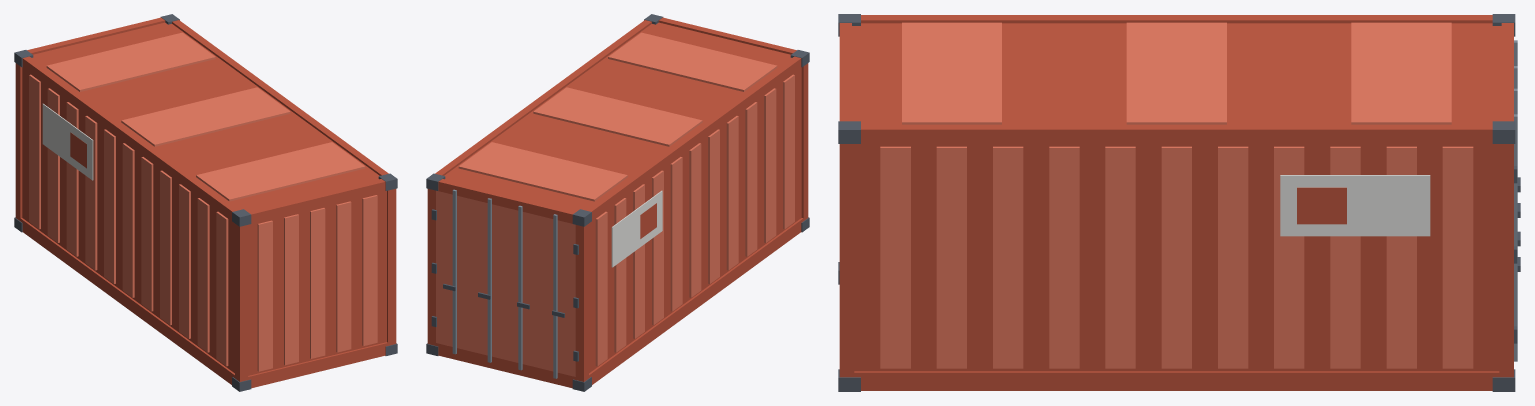
File: container_a.glb
3 renders of one model, left to right at view 1: azimuth 30°, elevation 25°; view 2: azimuth 150°, elevation 25°; view 3: azimuth 270°, elevation 25°, orthographic. The views are drawn at different scales.
Visible parts, largest first — view 1: Container; view 2: Container; view 3: Container.
Boxes of the visible parts, x1,y1,x2,y2 form: Container: (14, 14, 397, 391); Container: (426, 14, 809, 391); Container: (838, 14, 1520, 391).
Bounding box in the file's own units: 2.47 × 2.6 × 6.13.
